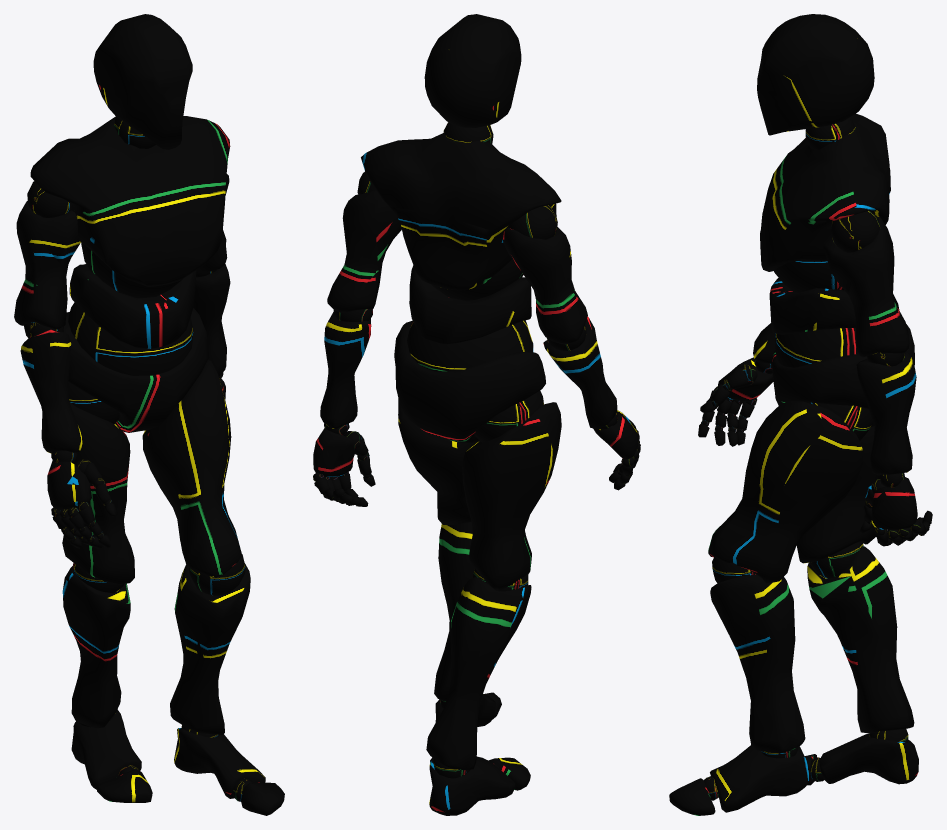
The model's file is y-bot-origin_000015.obj.
The picture shows the model from 3 angles, left to right: view 1: azimuth 30°, elevation 25°; view 2: azimuth 150°, elevation 25°; view 3: azimuth 270°, elevation 25°; orthographic projection.
Parts seen in each view (by area): view 1: Alpha_Surface_Alpha_SurfaceMesh, Alpha_Joints_Alpha_JointsMesh; view 2: Alpha_Surface_Alpha_SurfaceMesh, Alpha_Joints_Alpha_JointsMesh; view 3: Alpha_Surface_Alpha_SurfaceMesh, Alpha_Joints_Alpha_JointsMesh.
Part boxes in pixels (x1,y1,x2,y2): Alpha_Surface_Alpha_SurfaceMesh: [14, 14, 284, 815]; Alpha_Joints_Alpha_JointsMesh: [23, 117, 252, 801]; Alpha_Surface_Alpha_SurfaceMesh: [313, 14, 640, 815]; Alpha_Joints_Alpha_JointsMesh: [313, 122, 640, 778]; Alpha_Surface_Alpha_SurfaceMesh: [669, 14, 932, 815]; Alpha_Joints_Alpha_JointsMesh: [701, 117, 930, 800].
Bounding box in the file's own units: 0.5948 × 1.79 × 0.5531.
